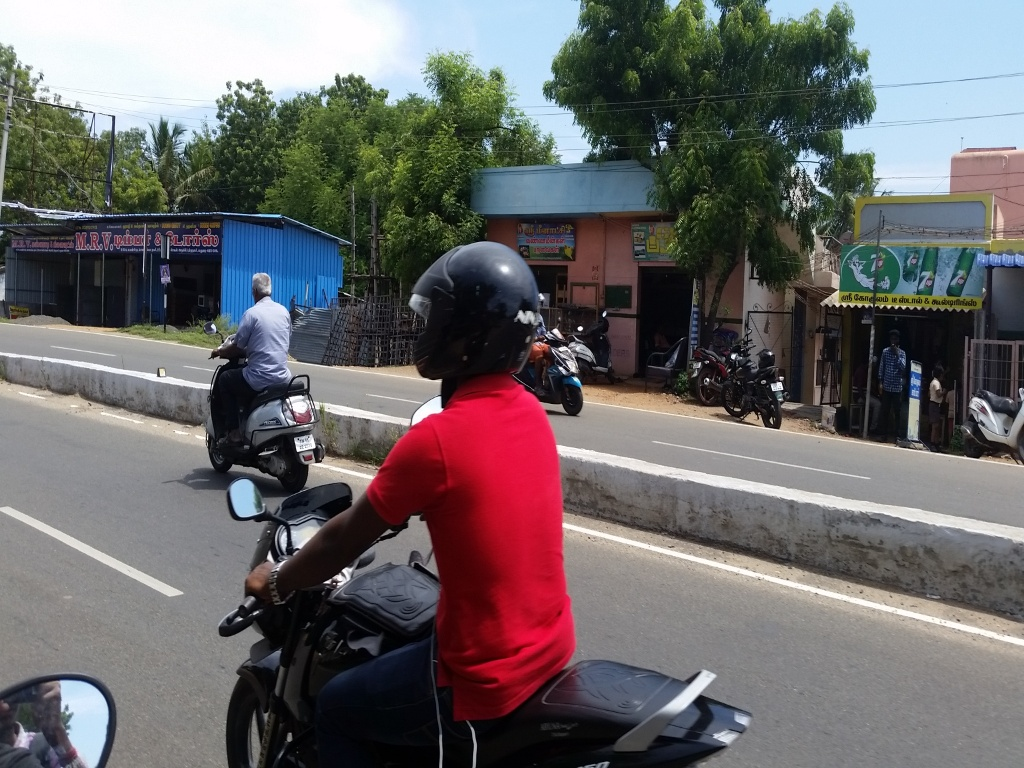biker: (208, 198, 777, 768), (191, 241, 340, 494)
helmet: (396, 228, 555, 405)
nohelmet: (246, 263, 282, 312)
